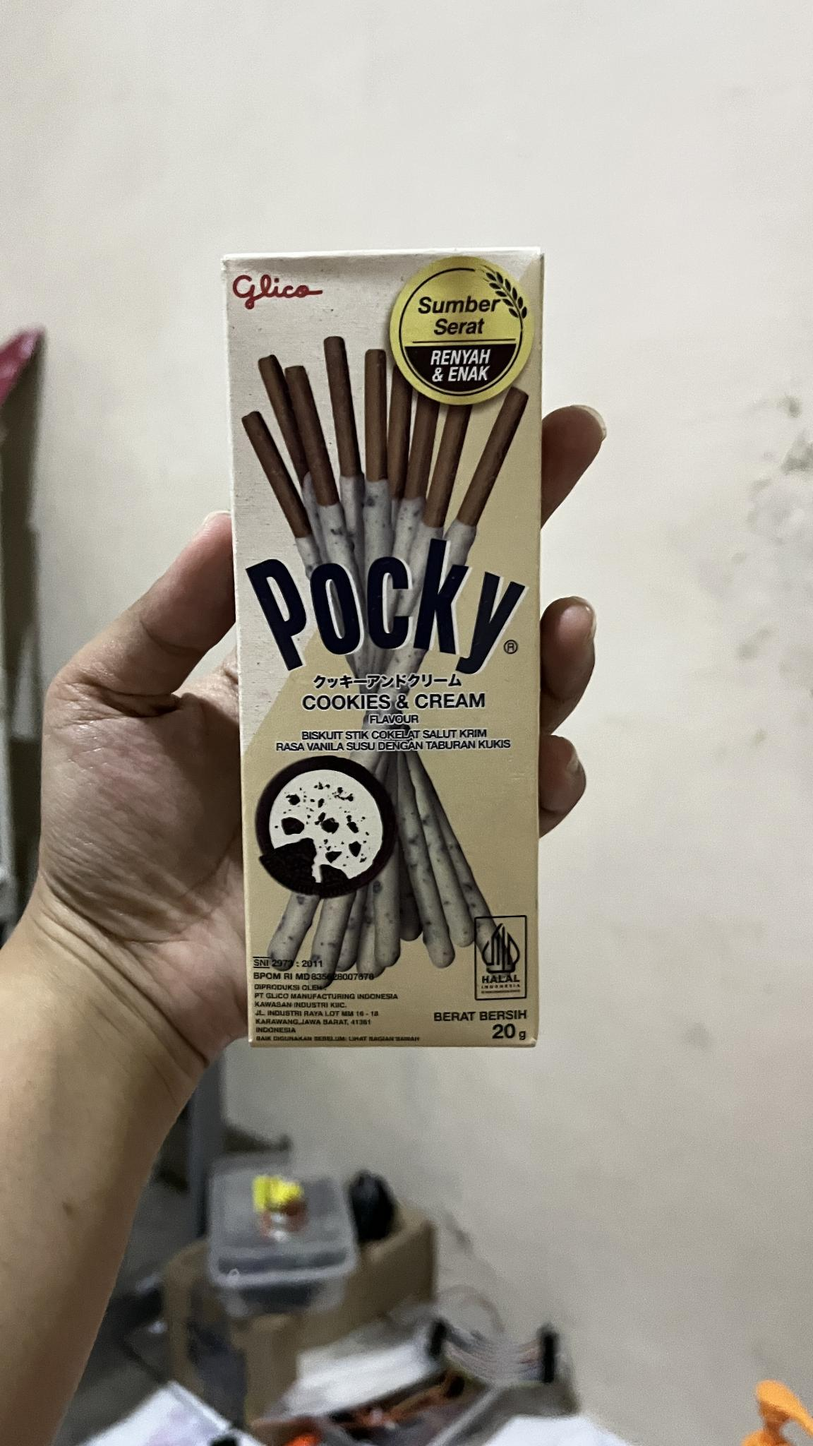Kertas: (240, 276, 527, 1051)
